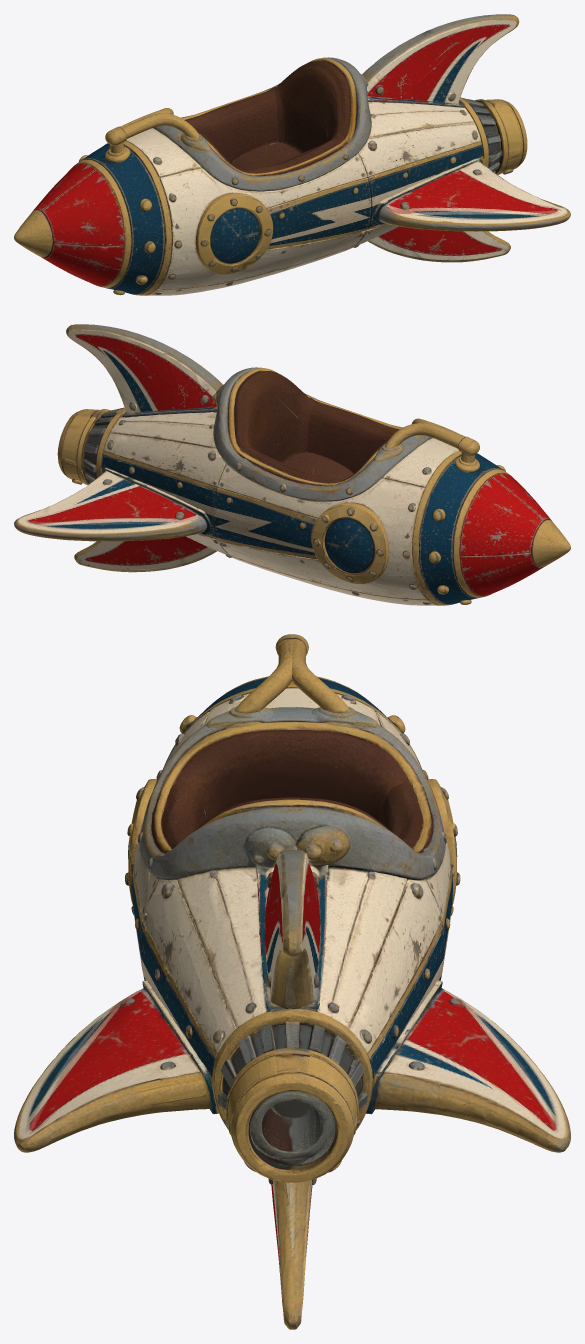
File: rocket.glb
3 renders of one model, top to bottom at view 1: azimuth 30°, elevation 25°; view 2: azimuth 150°, elevation 25°; view 3: azimuth 270°, elevation 25°, orthographic. The views are drawn at different scales.
Bounding box in the file's own units: 1.9 × 0.8796 × 1.07.
Materials: 1 (1 with a texture image).
